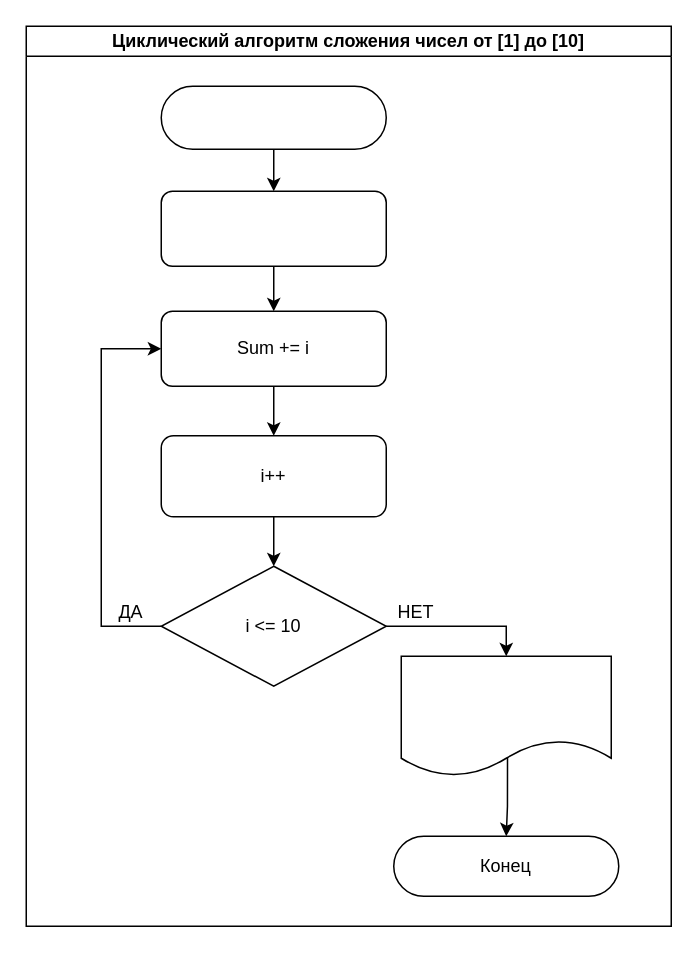
The diagram is 698 pixels wide and 953 high, and some of its shapes have lost their labels. The shapes that lost their labels are listed below. From the top down, each one's box as (x1, y1, x2, y2) in pixels, then its label:
(160, 85, 386, 149): Начало
(160, 190, 386, 266): int Sum = 0 int i = 1
(400, 655, 611, 776): Вывод значения Sum
